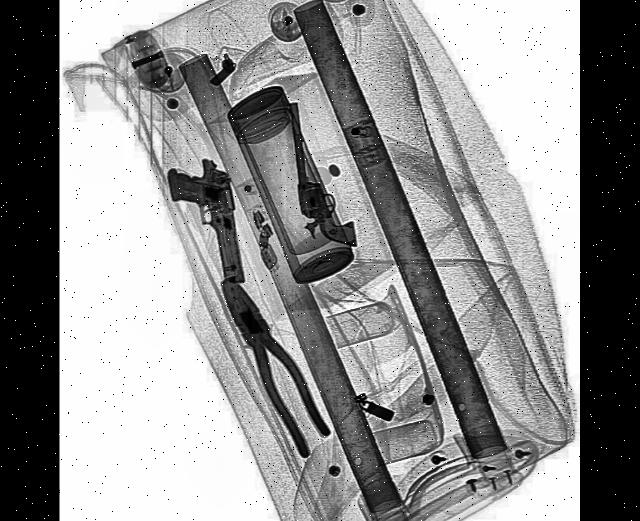Gun: (288, 89, 358, 258), (168, 149, 248, 296)
Pliers: (212, 262, 336, 459)
